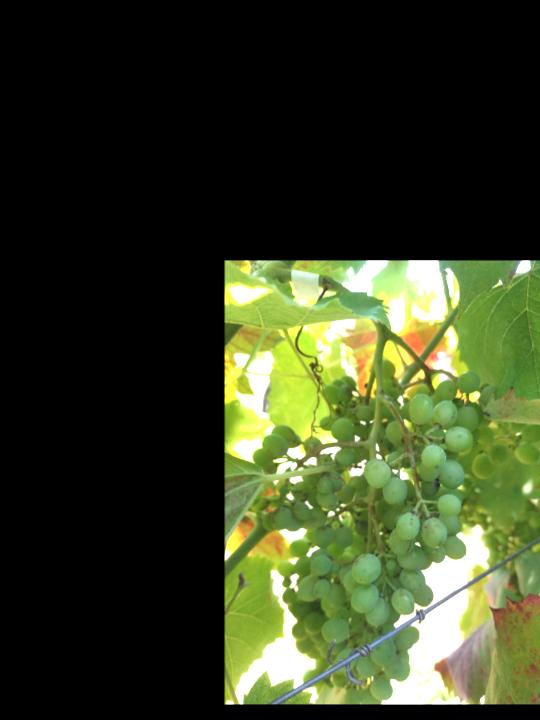grape: (251, 358, 540, 701)
